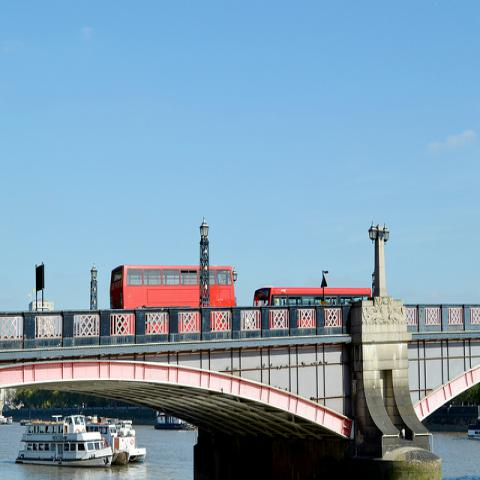bus: (109, 265, 238, 314), (253, 292, 372, 310)
